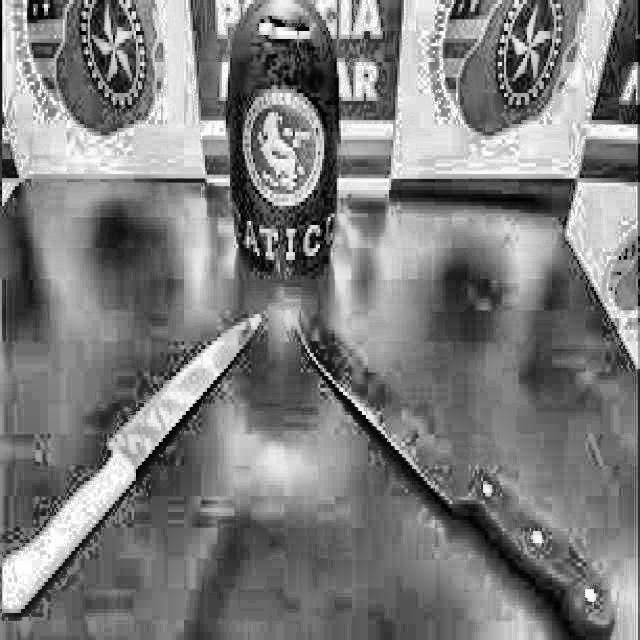pisau: (0, 309, 266, 631)
